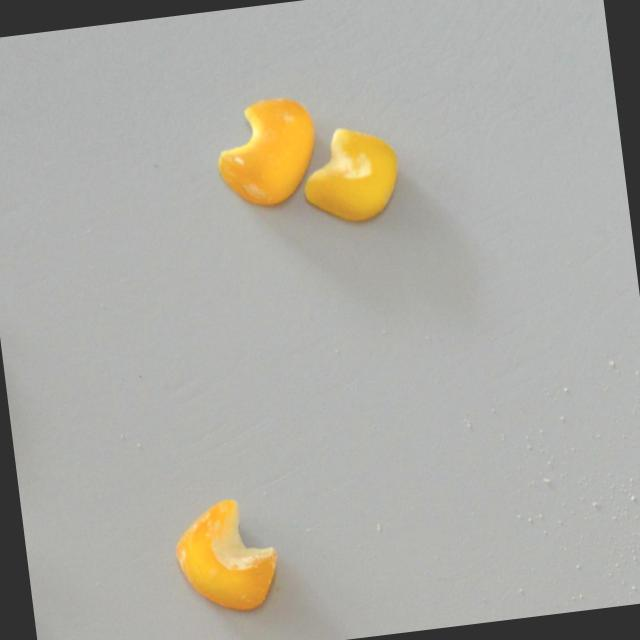no_canjicado: (209, 92, 322, 213), (296, 119, 404, 227)
pelicula: (169, 492, 284, 619)
